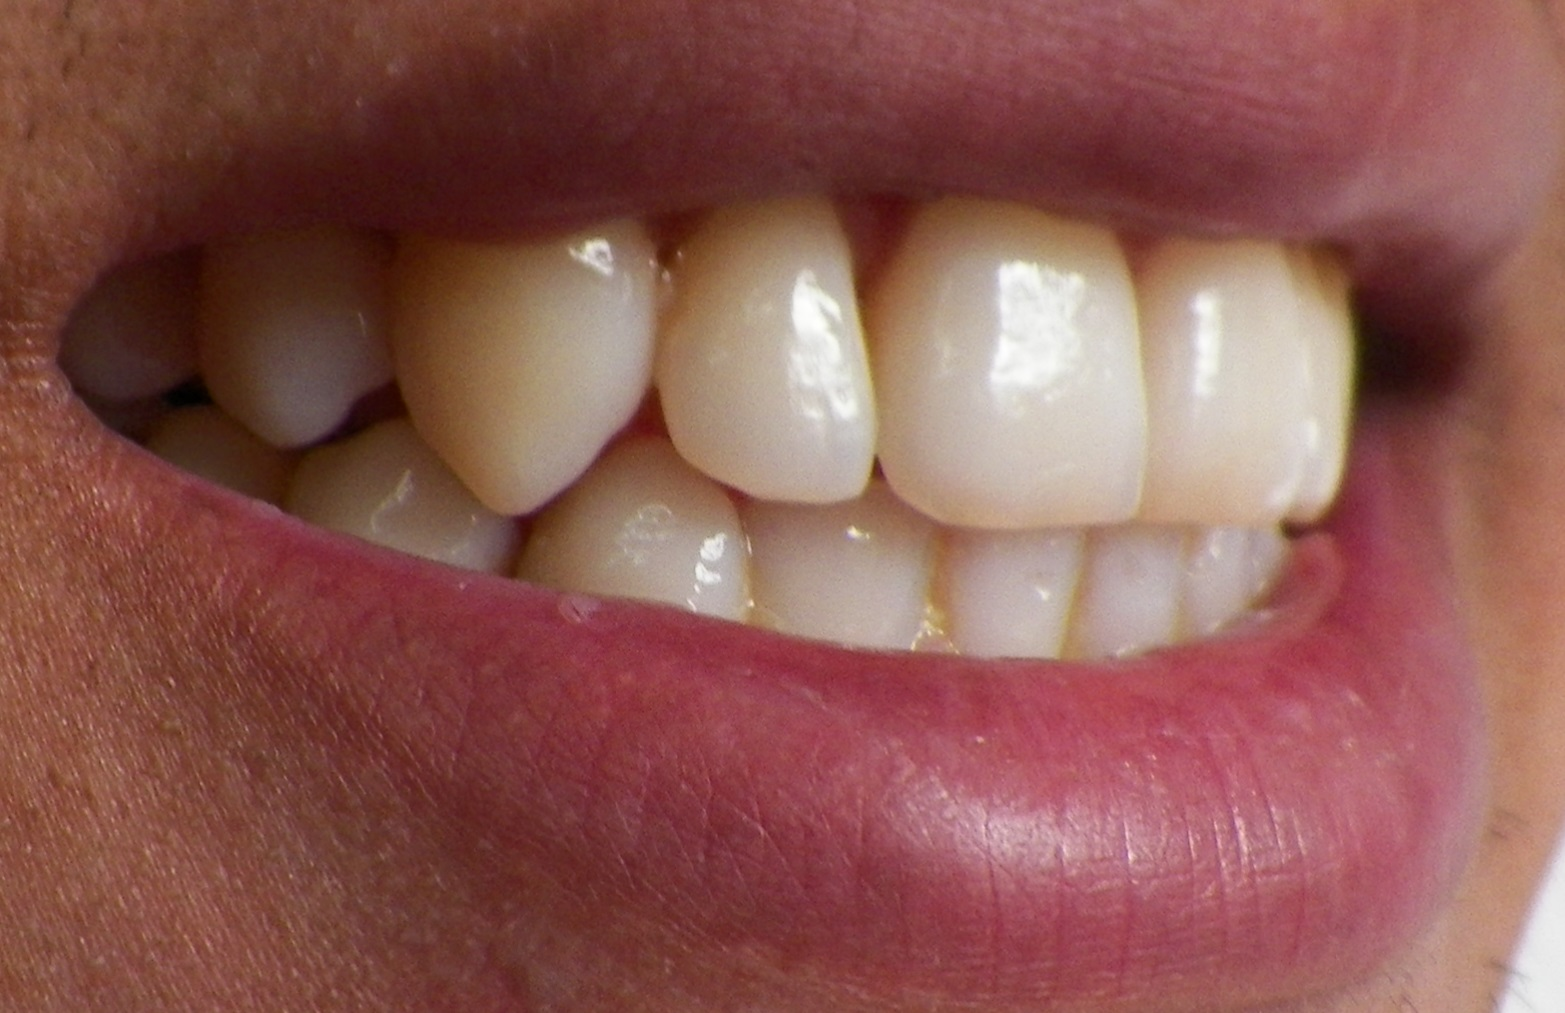boca: (84, 214, 1357, 661)
